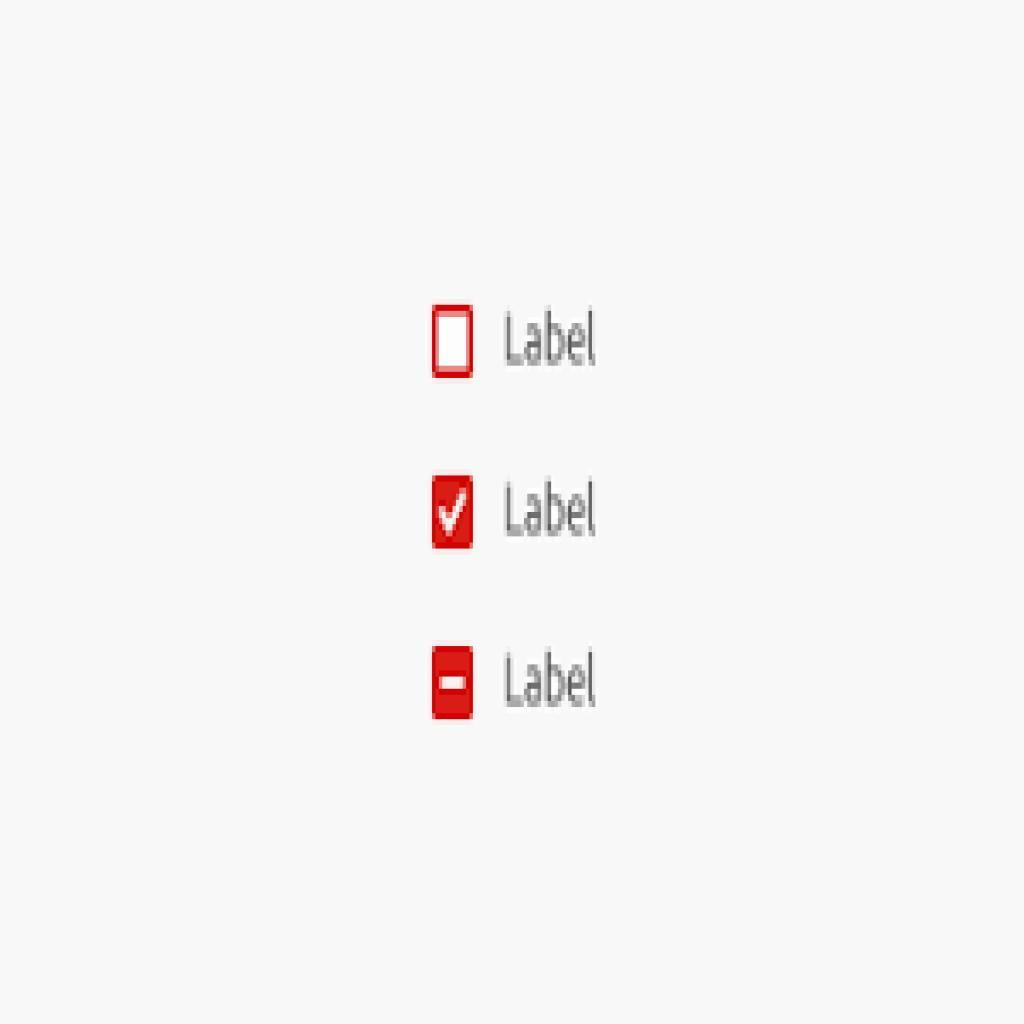checkbox: (430, 470, 478, 554), (431, 645, 478, 720), (431, 302, 471, 382)
